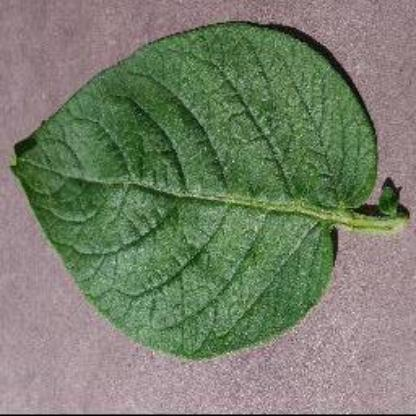Healthy-plant: (0, 18, 416, 366)
